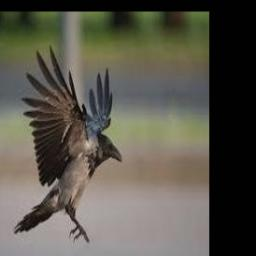Crow: (12, 45, 121, 242)
